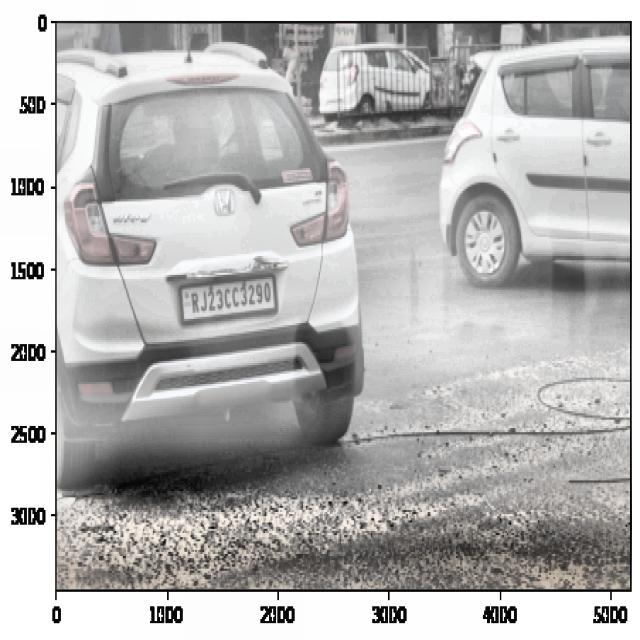license_plate: (188, 279, 274, 317)
